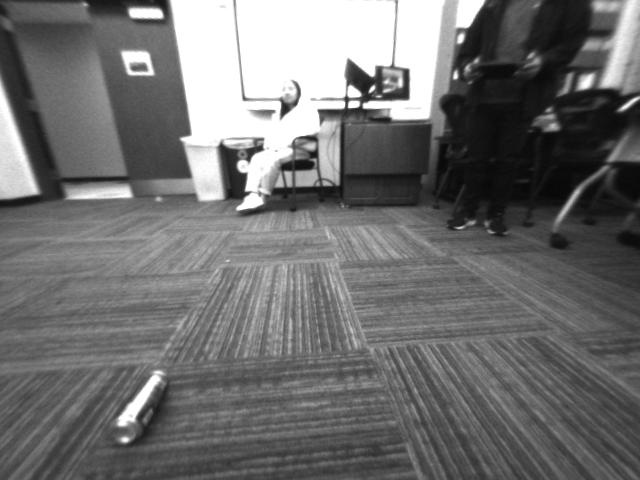can: (106, 356, 179, 450)
